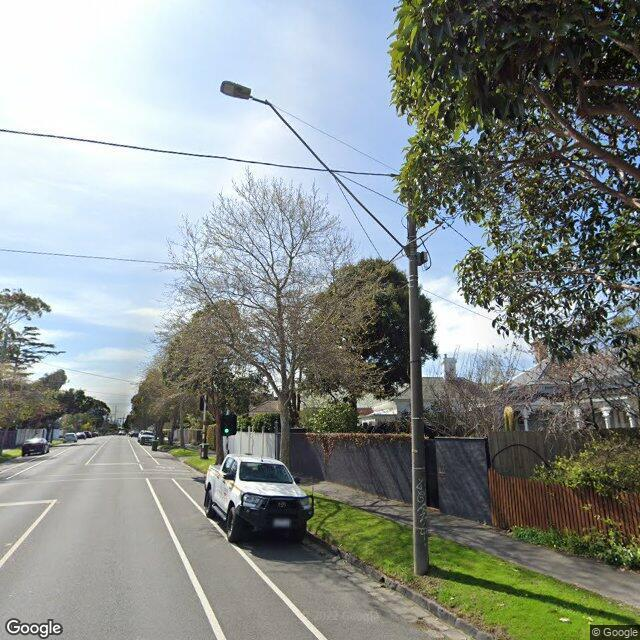concrete-pole: (408, 214, 430, 576)
streetlight: (220, 80, 408, 256)
